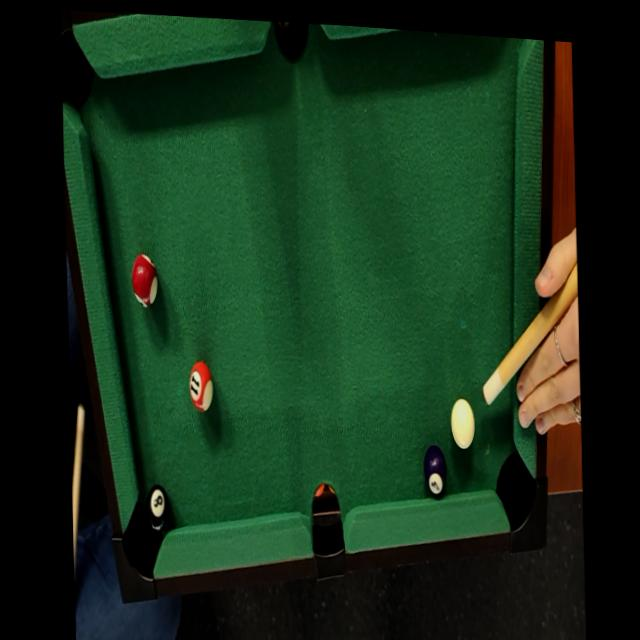cue ball: (447, 396, 475, 452)
other: (126, 248, 160, 318), (184, 349, 217, 418), (143, 480, 171, 534), (422, 446, 445, 501)
